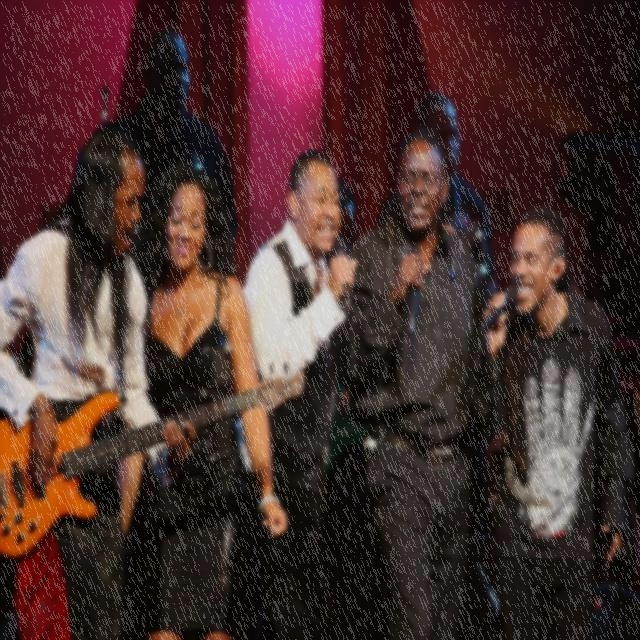pessoa: (0, 115, 199, 640), (328, 126, 491, 640), (470, 203, 640, 640), (142, 160, 290, 640), (226, 145, 365, 639), (121, 29, 243, 302), (376, 89, 496, 278), (337, 163, 355, 248)
